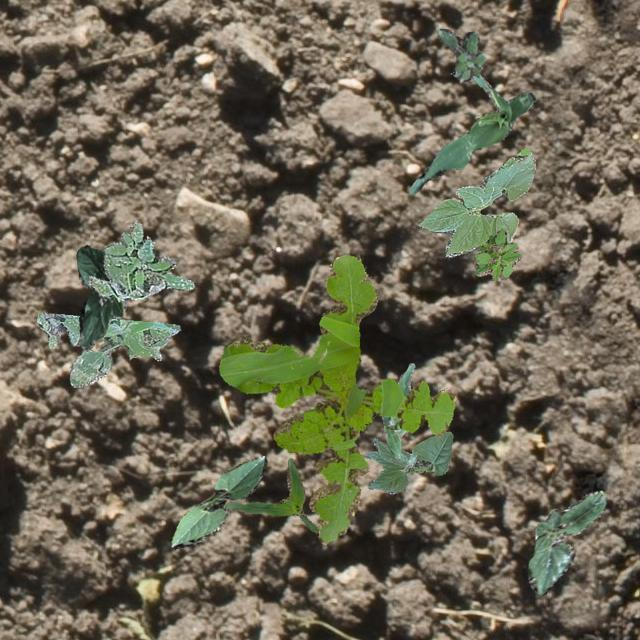crop: (408, 74, 534, 192), (418, 147, 534, 255), (170, 454, 266, 548), (526, 490, 606, 594), (222, 456, 318, 532), (364, 430, 452, 492), (76, 244, 126, 348), (381, 362, 417, 466)
weed: (218, 254, 456, 544), (36, 312, 180, 386), (88, 220, 194, 300), (436, 28, 484, 82), (474, 228, 520, 282)
